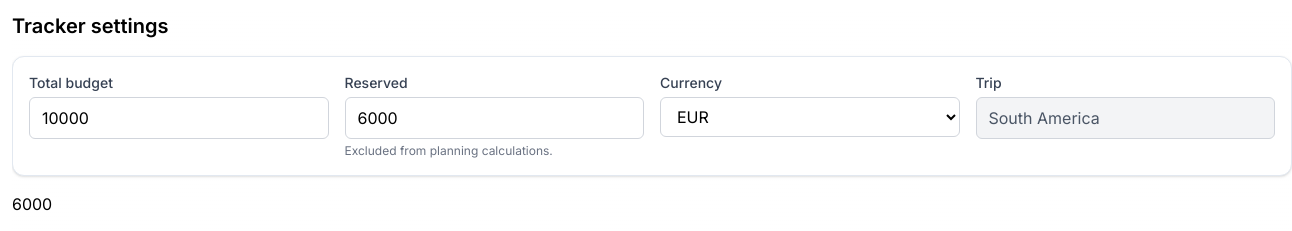
Test: BudgetSetup reserved budget input › allows clearing the reserved budget input without forcing 0
Clear the number field labelled "Reserved" at (494, 118), box [344,97,644,139]
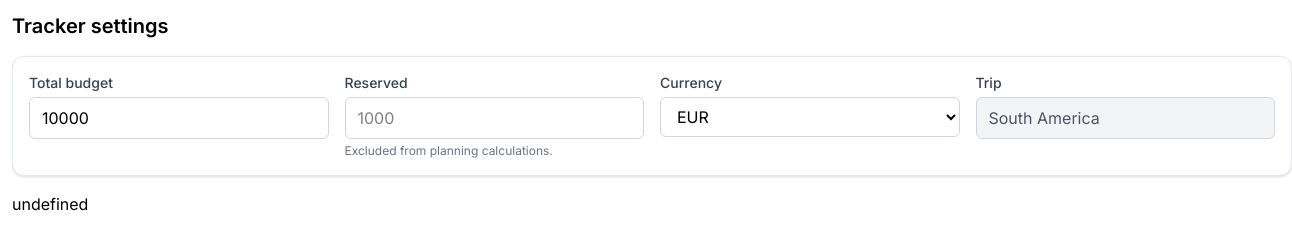
Expected: the text with test id "reserved-budget-state" reads "undefined", [12,194,88,214]
